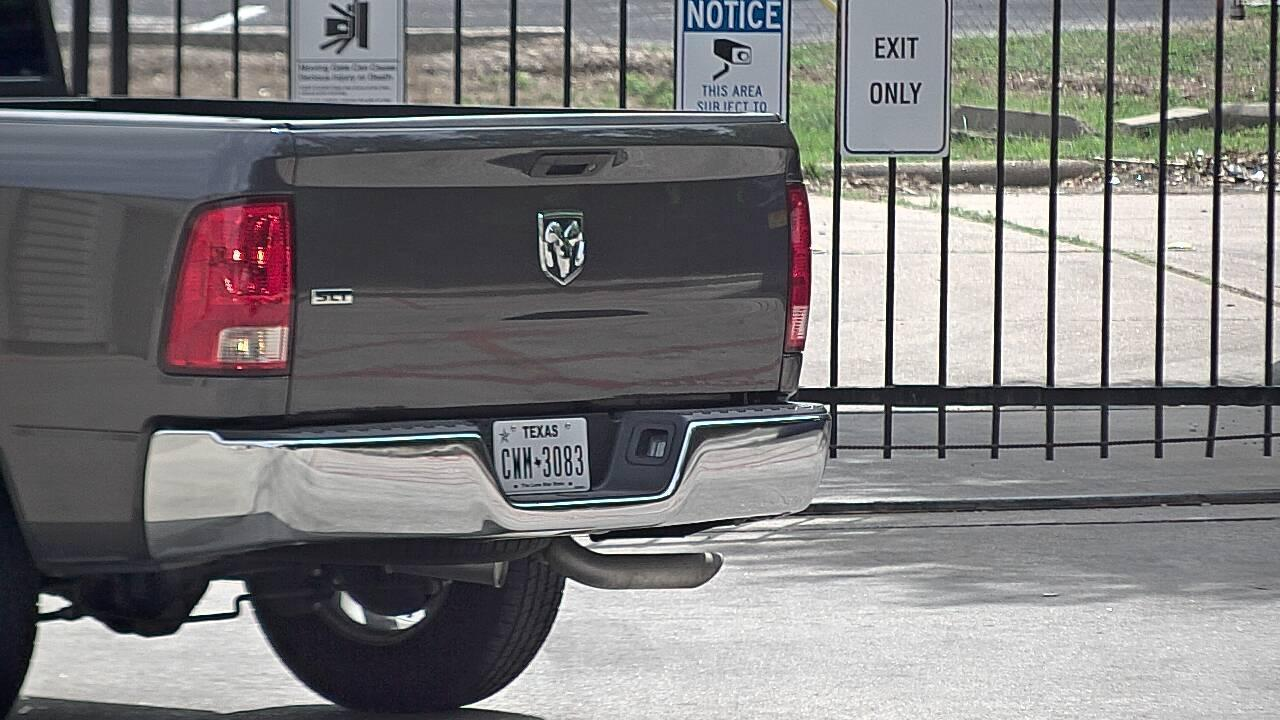placa de veiculo: (475, 408, 613, 516)
